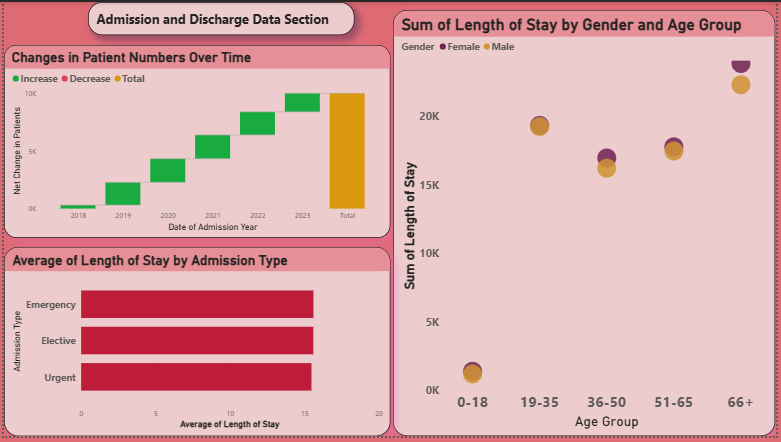

The dashboard page shown, as its layout file describes it:
{"tool":"powerbi","page":{"name":"Admission and Discharge Data Section","canvas":[1280,720],"ordinal":3},"visuals":[{"type":"waterfallChart","title":"Changes in Patient Numbers Over Time","fields":{"Category":["healthcare_dataset1.Date of Admission.Variation.Date Hierarchy.Year","healthcare_dataset1.Date of Admission.Variation.Date Hierarchy.Quarter","healthcare_dataset1.Date of Admission.Variation.Date Hierarchy.Month","healthcare_dataset1.Date of Admission.Variation.Date Hierarchy.Day"],"Y":["healthcare_dataset1.Net Change in Patients"]},"box":[0,71.2,640.7,320.4],"z":0},{"type":"scatterChart","fields":{"X":["healthcare_dataset1.Age Group"],"Series":["healthcare_dataset1.Gender"],"Y":["Sum(healthcare_dataset1.Length of Stay)"]},"box":[645.6,12.9,634.2,707.1],"z":1000},{"type":"clusteredBarChart","fields":{"Category":["healthcare_dataset1.Admission Type"],"Y":["Avg(healthcare_dataset1.Length of Stay)"]},"box":[0,406.1,640.7,313.9],"z":2000},{"type":"textbox","box":[139.1,0,441.7,55],"z":3001}]}

Visuals, with their boxes in screenshot pixels (x1, y1, x2, y2), scaled from the page's 1280x720 canvas onto the 781x442 screenshot:
"Changes in Patient Numbers Over Time" waterfallChart: 0, 44, 391, 240
scatterChart - healthcare_dataset1.Age Group x healthcare_dataset1.Gender: 394, 8, 780, 441
clusteredBarChart - healthcare_dataset1.Admission Type x Avg(healthcare_dataset1.Length of Stay): 0, 249, 391, 441
textbox: 85, 0, 354, 34
